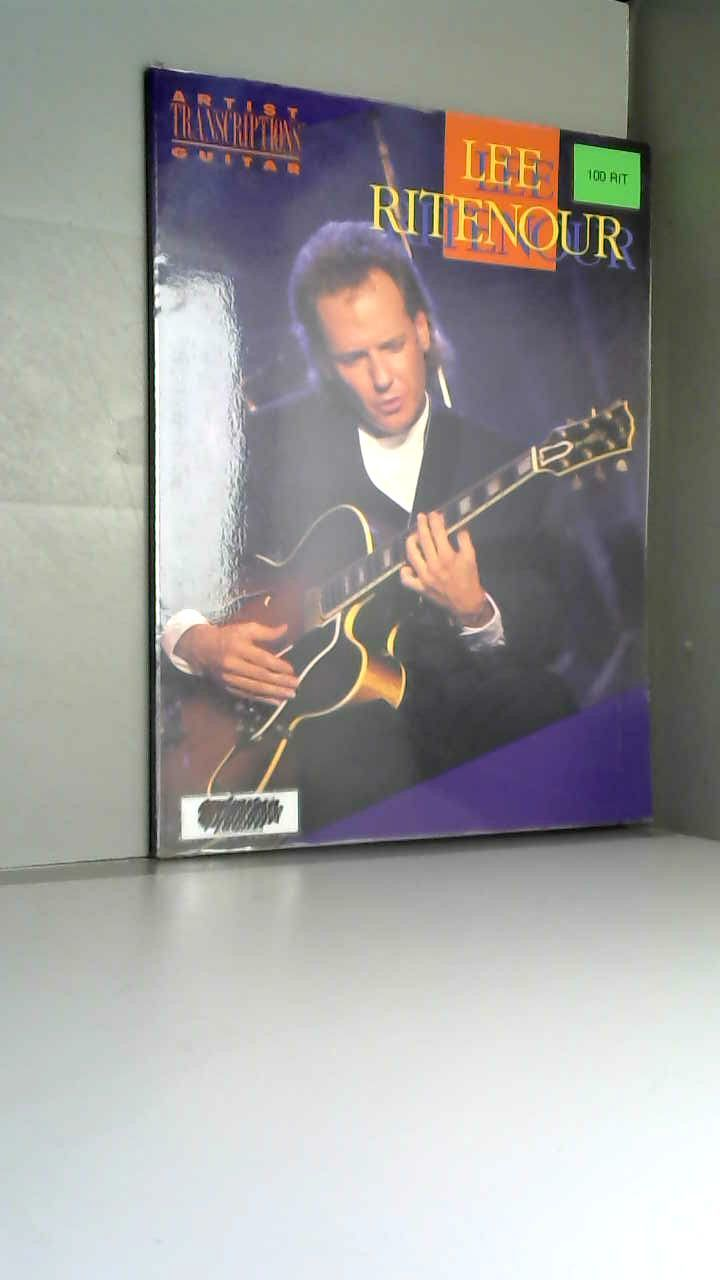book: (120, 40, 720, 905)
